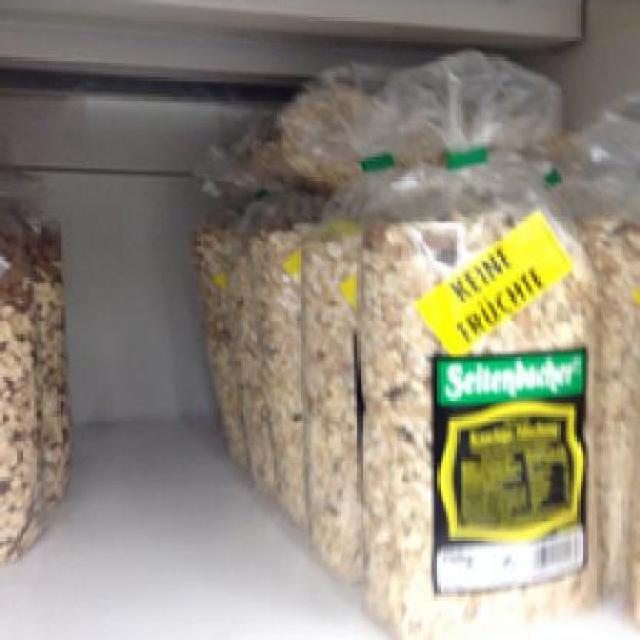Cereal: (363, 154, 600, 637)
